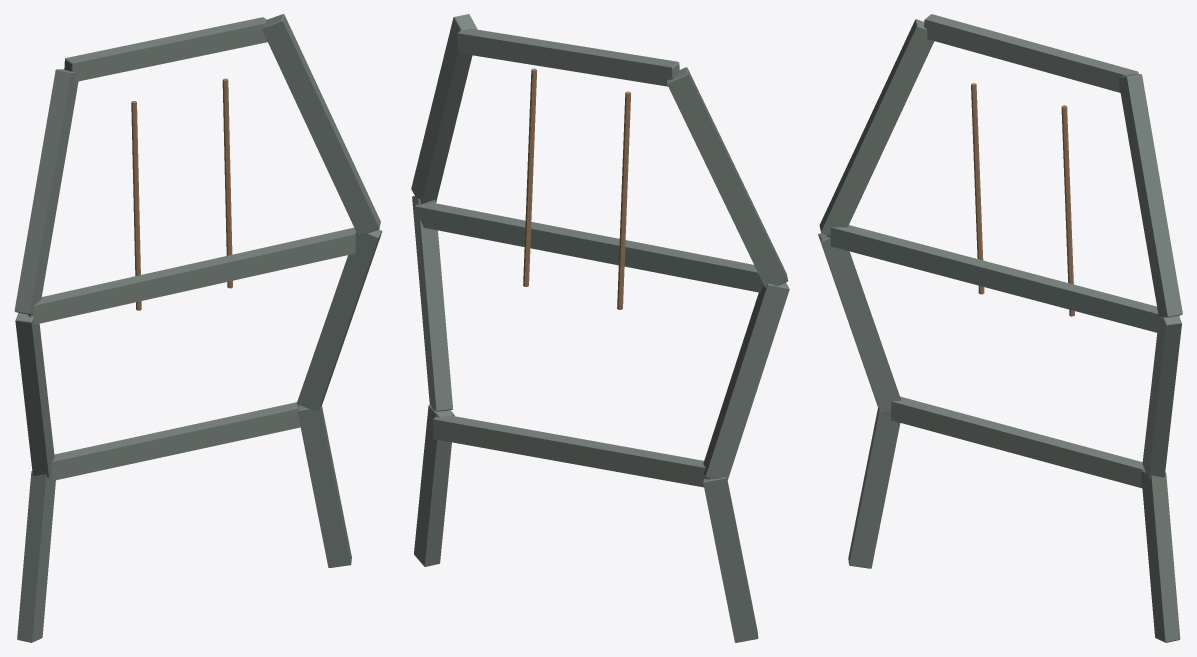
The model's file is TwistedFrame.fbx.
The picture shows the model from 3 angles, left to right: view 1: azimuth 30°, elevation 25°; view 2: azimuth 150°, elevation 25°; view 3: azimuth 330°, elevation 25°; orthographic projection. The views are drawn at different scales.
Visible parts, largest first — view 1: BuckledPosts__Steel, BentBearers__Steel, DeadChain__Rust; view 2: BuckledPosts__Steel, BentBearers__Steel, DeadChain__Rust; view 3: BuckledPosts__Steel, BentBearers__Steel, DeadChain__Rust.
Part boxes in pixels (box(x1,y1,x2,y2)): BuckledPosts__Steel: box(14, 14, 382, 642); BentBearers__Steel: box(28, 17, 355, 480); DeadChain__Rust: box(131, 78, 232, 310); BuckledPosts__Steel: box(411, 14, 789, 642); BentBearers__Steel: box(414, 28, 763, 487); DeadChain__Rust: box(523, 68, 630, 309); BuckledPosts__Steel: box(818, 19, 1182, 642); BentBearers__Steel: box(827, 14, 1179, 488); DeadChain__Rust: box(971, 83, 1074, 316).
Bounding box in the file's own units: 4.02 × 5.82 × 0.8285.
